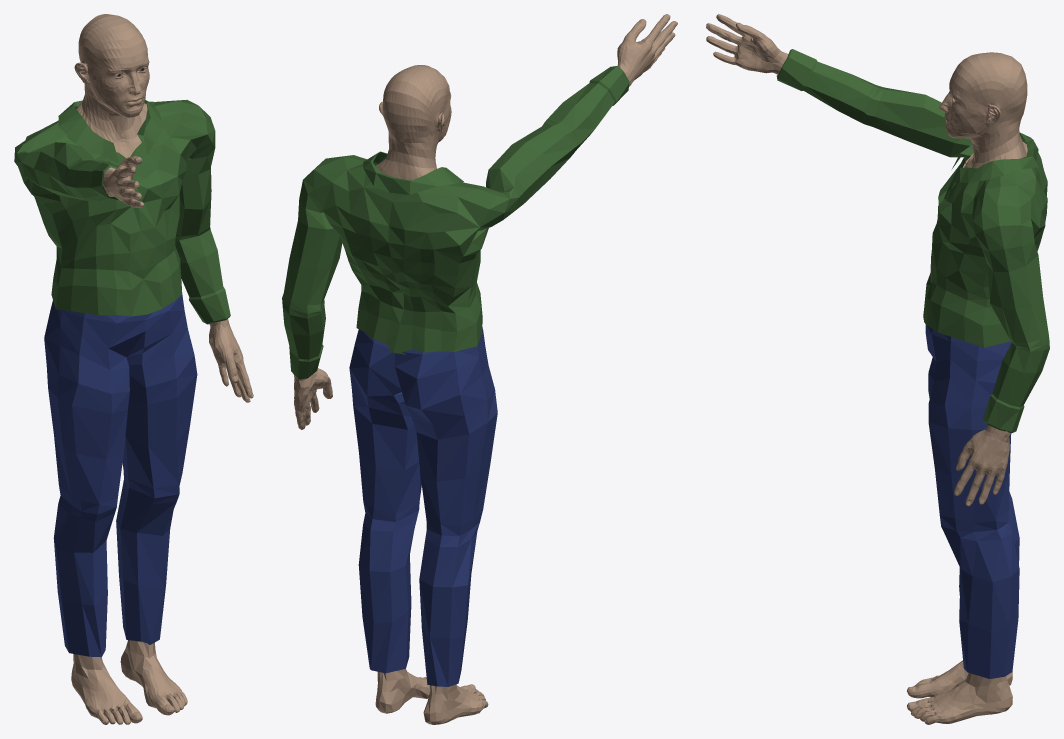
The model's file is posedae.dae.
The picture shows the model from 3 angles, left to right: view 1: azimuth 30°, elevation 25°; view 2: azimuth 150°, elevation 25°; view 3: azimuth 270°, elevation 25°; orthographic projection. The views are drawn at different scales.
Visible parts, largest first — view 1: human; view 2: human; view 3: human.
Boxes of the visible parts, <box> form: human: <box>14,14,253,724</box>; human: <box>282,14,677,724</box>; human: <box>706,14,1049,724</box>.
Bounding box in the file's own units: 0.8308 × 1.02 × 2.13.
